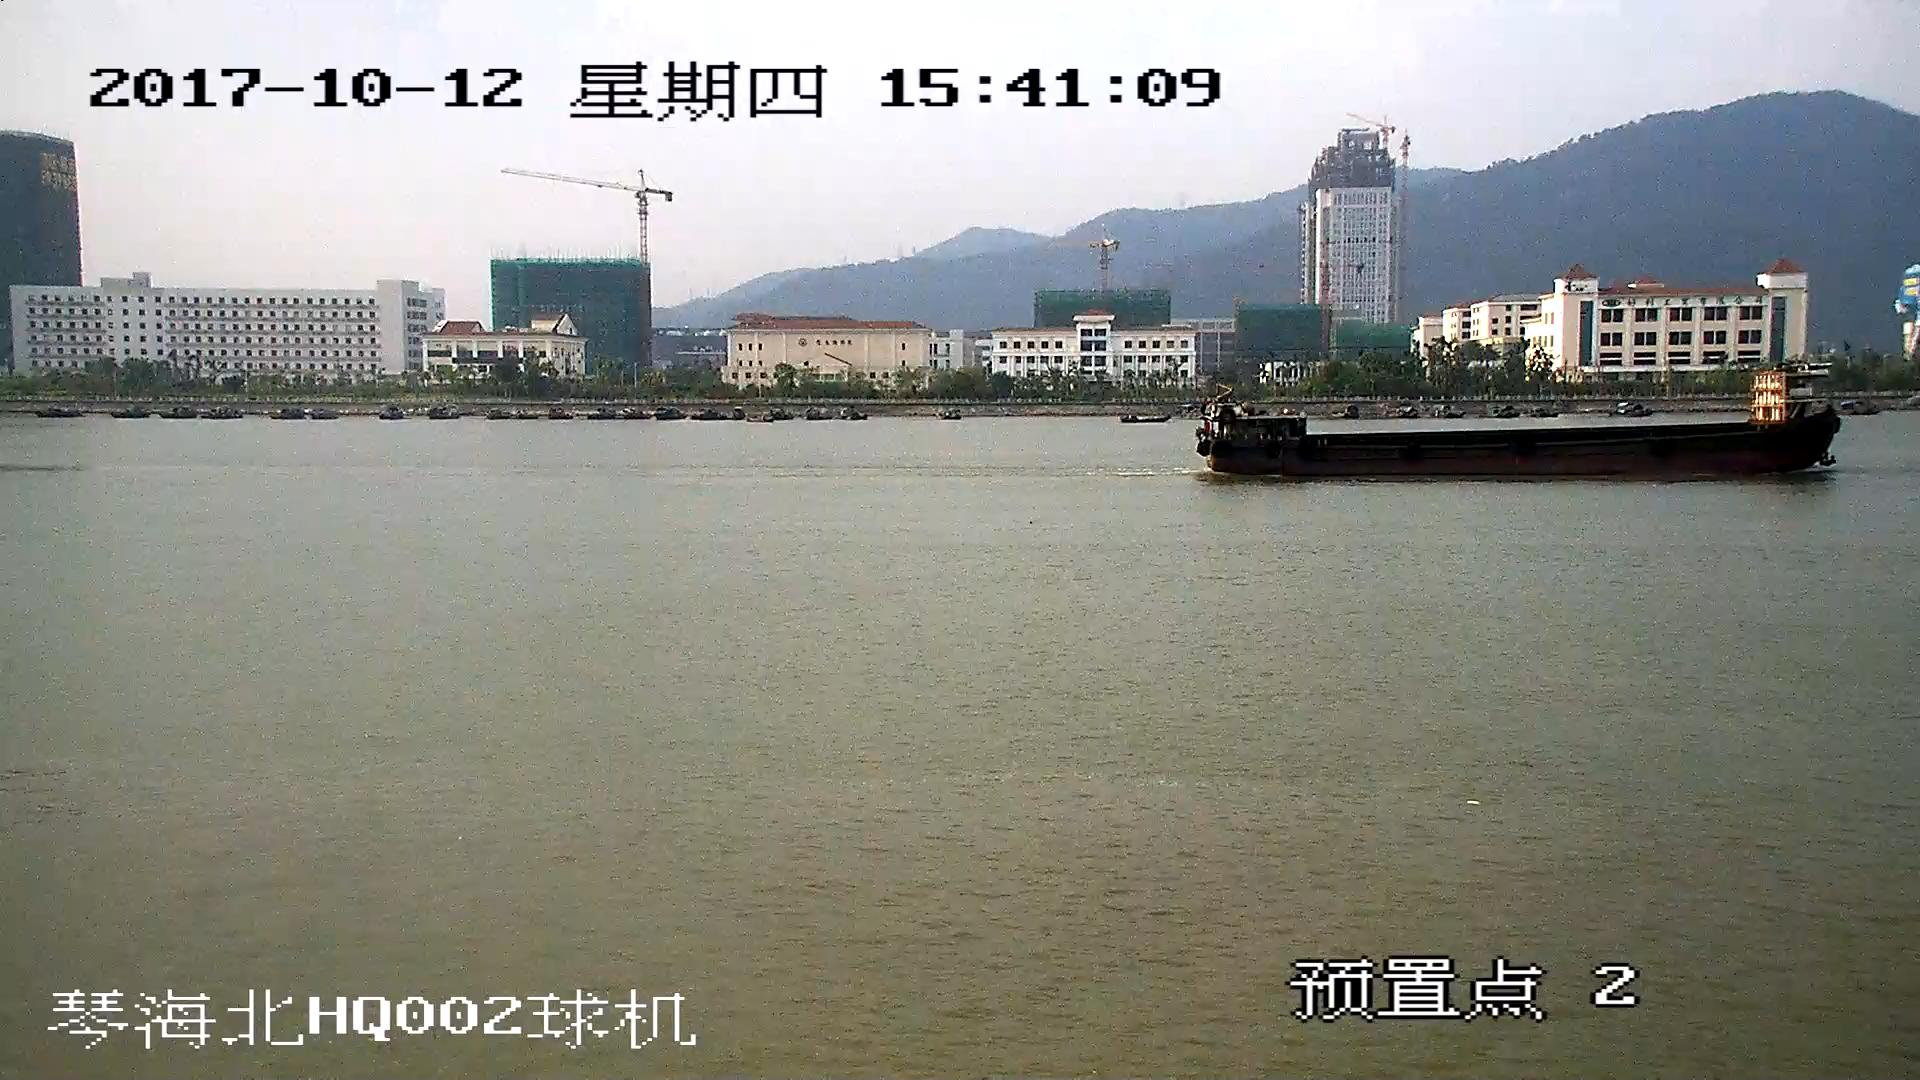general cargo ship: (1206, 360, 1832, 476)
